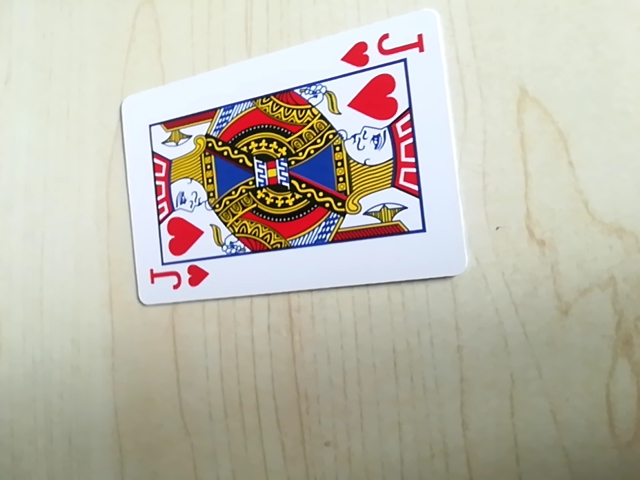hx j: (337, 25, 429, 71), (143, 258, 214, 301)
